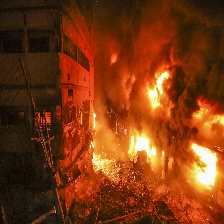fire: (191, 144, 217, 191), (147, 73, 166, 113), (126, 133, 156, 157), (89, 113, 100, 163)
smoke: (97, 7, 224, 170)
